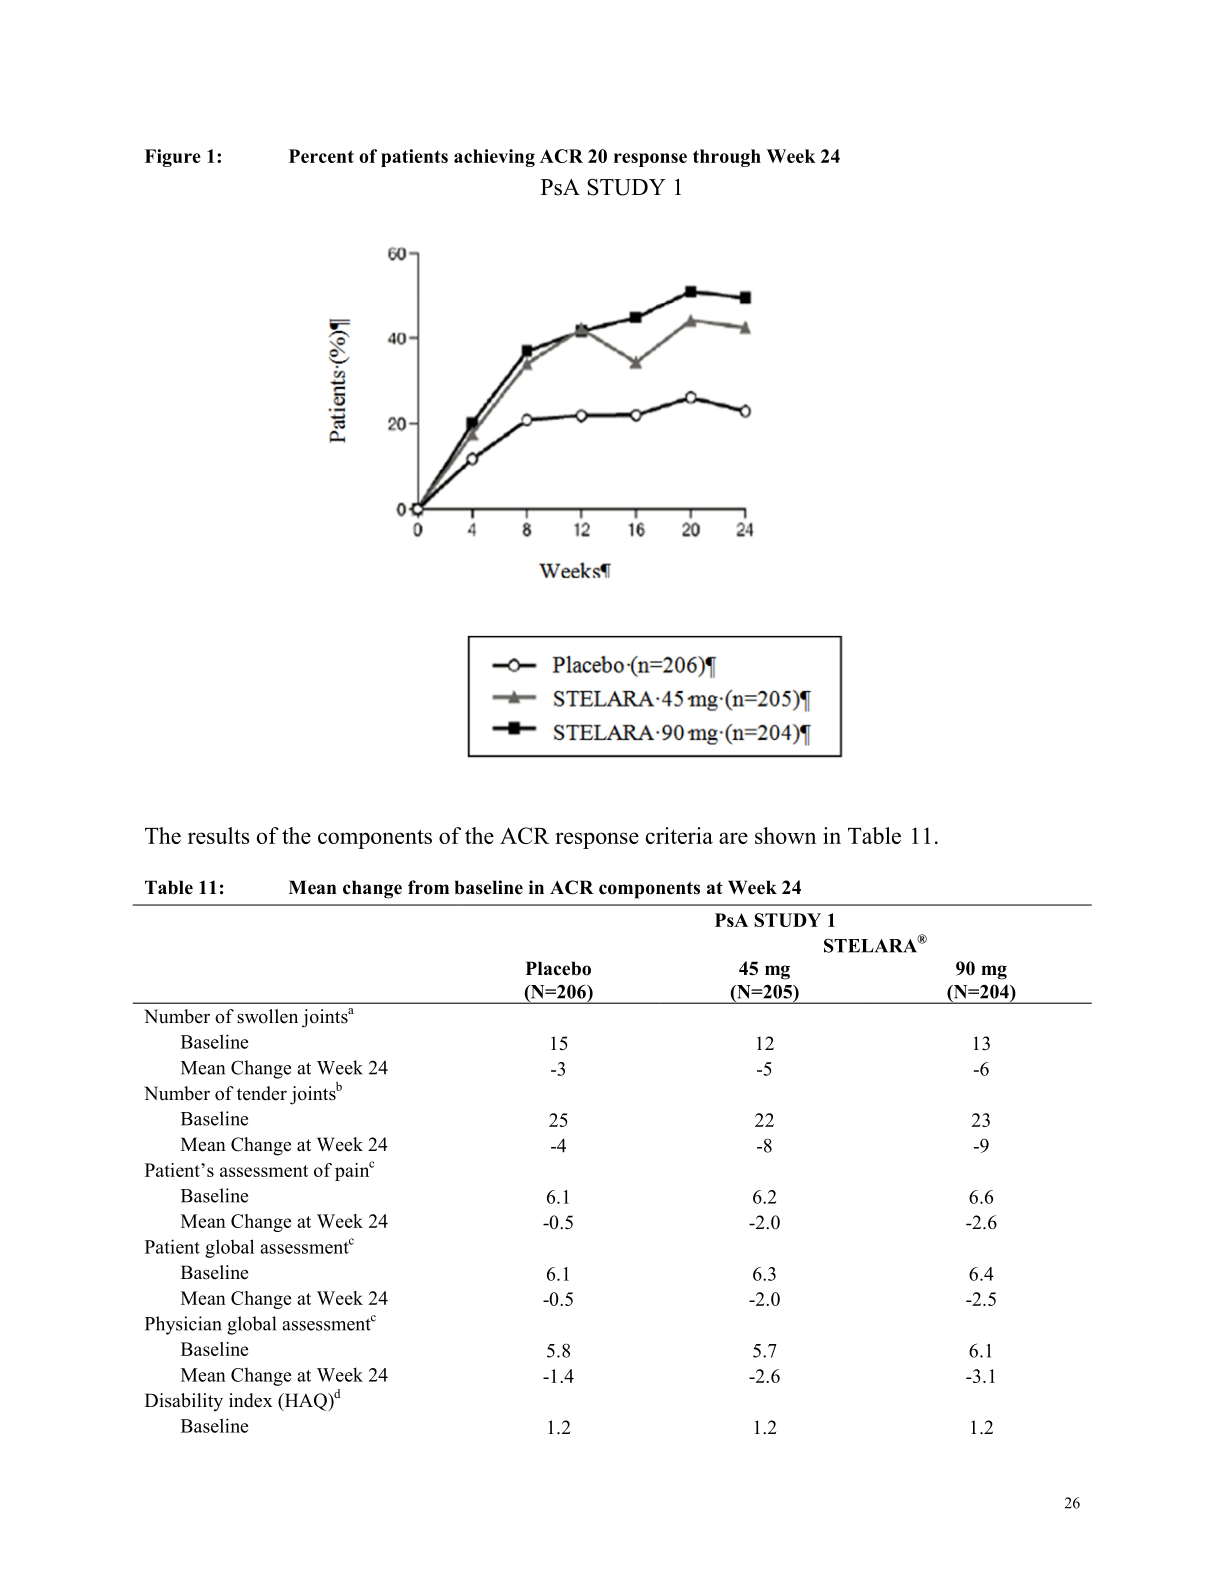partial_lined_merged_cells: (132, 903, 1094, 1439)
